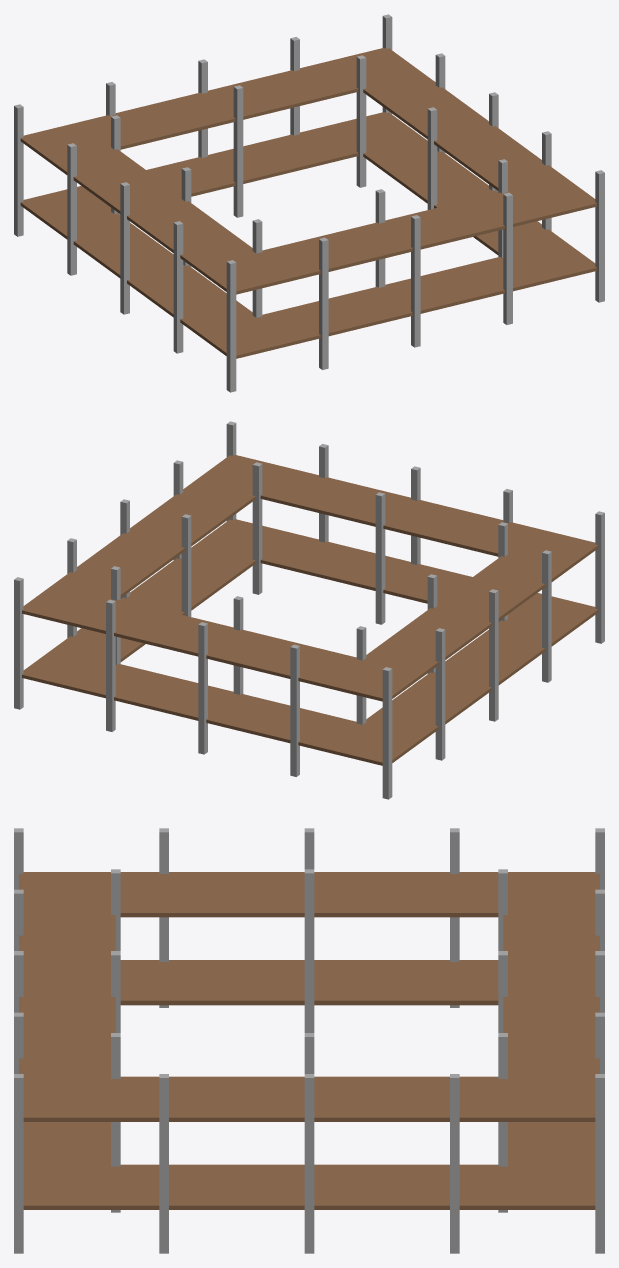
File: SM_Scaffolding_01.fbx
3 renders of one model, top to bottom at view 1: azimuth 30°, elevation 25°; view 2: azimuth 150°, elevation 25°; view 3: azimuth 270°, elevation 25°, orthographic. The views are drawn at different scales.
Visible parts, largest first — view 1: Cube.008, Cube.009, Cube.011, Cube.012, Cube.010; view 2: Cube.008, Cube.009, Cube.011, Cube.012, Cube.010; view 3: Cube.008, Cube.009, Cube.012, Cube.011, Cube.010.
Part boxes in pixels (bbox=[...]): Cube.008: bbox=[20, 47, 596, 358]; Cube.009: bbox=[14, 14, 604, 392]; Cube.011: bbox=[106, 37, 512, 369]; Cube.012: bbox=[111, 56, 507, 317]; Cube.010: bbox=[233, 55, 507, 287]; Cube.008: bbox=[22, 454, 598, 765]; Cube.009: bbox=[14, 421, 604, 799]; Cube.011: bbox=[106, 444, 512, 776]; Cube.012: bbox=[111, 463, 507, 724]; Cube.010: bbox=[112, 462, 385, 694]; Cube.008: bbox=[19, 872, 599, 1209]; Cube.009: bbox=[14, 828, 604, 1253]; Cube.012: bbox=[111, 869, 507, 1073]; Cube.011: bbox=[14, 889, 604, 1073]; Cube.010: bbox=[111, 951, 507, 1212].
Bounding box in the file's own units: 1220 × 400 × 1220.
